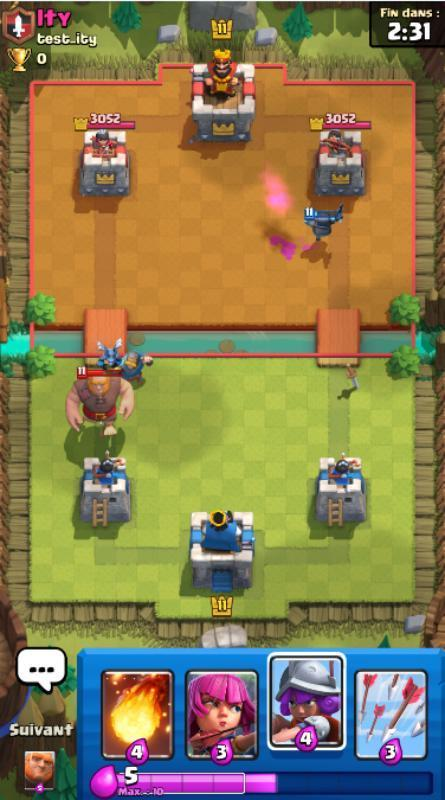enemy_giant: (62, 366, 136, 437)
player_mini_pekka: (298, 202, 349, 247)
player_minions: (120, 347, 152, 382), (94, 337, 125, 367)
